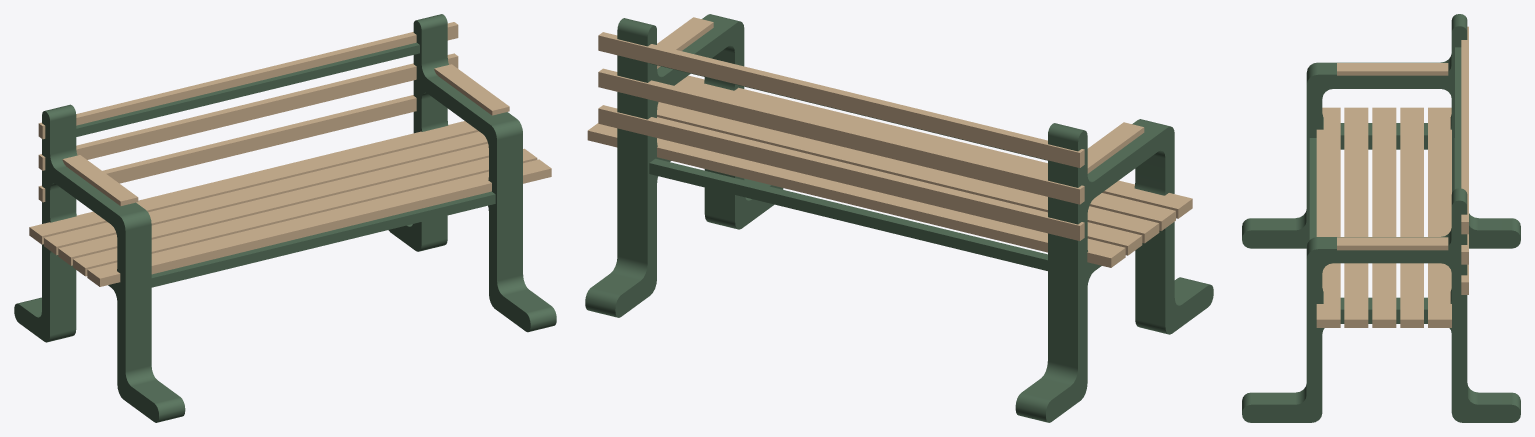
File: Bench_Wood.fbx
3 views of the same model, side by side, from view 1: azimuth 30°, elevation 25°; view 2: azimuth 150°, elevation 25°; view 3: azimuth 270°, elevation 25° (orthographic). The views are drawn at different scales.
Visible parts, largest first — view 1: LOD0; view 2: LOD0; view 3: LOD0.
Boxes of the visible parts, <box> form: LOD0: <box>14,14,556,422</box>; LOD0: <box>585,14,1213,422</box>; LOD0: <box>1242,14,1520,422</box>.
Size of what is drawn, in the model's own units: 180 by 88 by 100.
